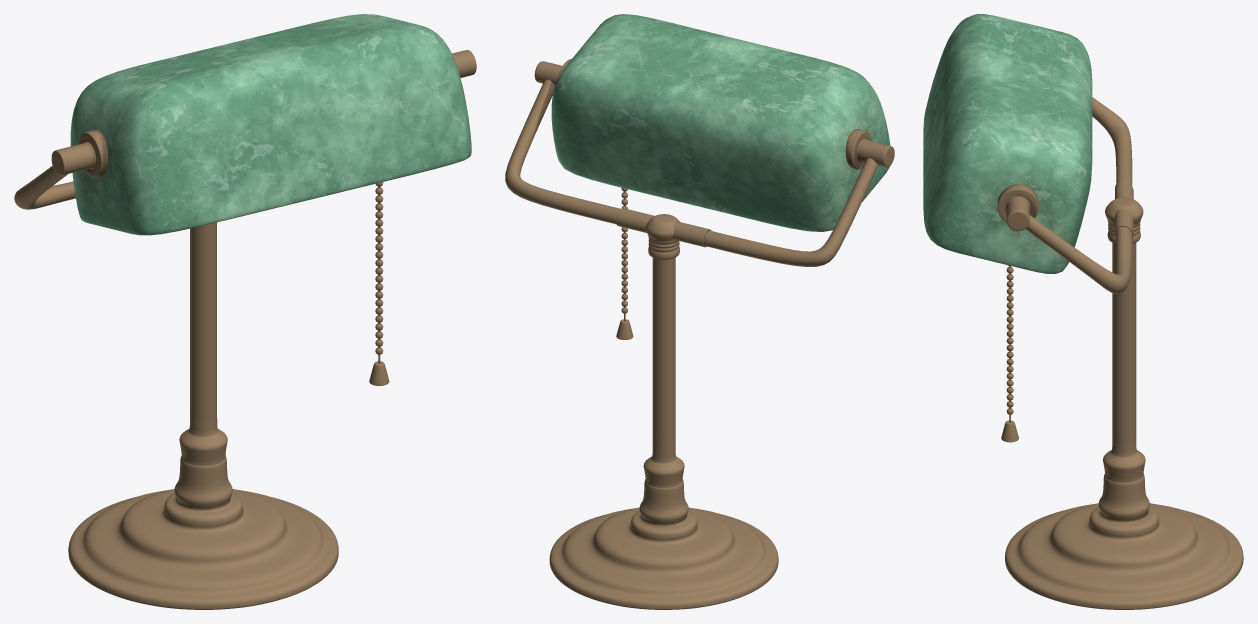
The model's file is bankerlamp.glb.
3 views of the same model, side by side, from view 1: azimuth 30°, elevation 25°; view 2: azimuth 150°, elevation 25°; view 3: azimuth 270°, elevation 25° (orthographic). The views are drawn at different scales.
Parts seen in each view (by area): view 1: pCube1, pCylinder1, pCylinder5, pCylinder4; view 2: pCube1, pCylinder1, pCylinder4, pCylinder5, pCylinder6; view 3: pCube1, pCylinder1, pCylinder4, pCylinder6.
Boxes of the visible parts, x1,y1,x2,y2 form: pCube1: [70, 14, 471, 235]; pCylinder1: [68, 222, 338, 609]; pCylinder5: [51, 130, 107, 177]; pCylinder4: [14, 166, 75, 209]; pCube1: [551, 14, 890, 231]; pCylinder1: [549, 214, 778, 609]; pCylinder4: [505, 79, 878, 266]; pCylinder5: [845, 129, 894, 169]; pCylinder6: [534, 59, 571, 84]; pCube1: [923, 14, 1092, 273]; pCylinder1: [1005, 197, 1243, 609]; pCylinder4: [1025, 97, 1133, 293]; pCylinder6: [997, 184, 1038, 231].
Bounding box in the file's own units: 1.56 × 2.01 × 1.18.
Materials: 1 (1 with a texture image).
